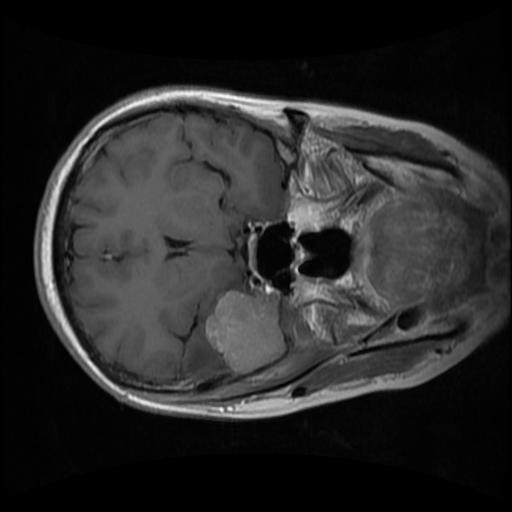meningioma: (203, 289, 288, 375)
